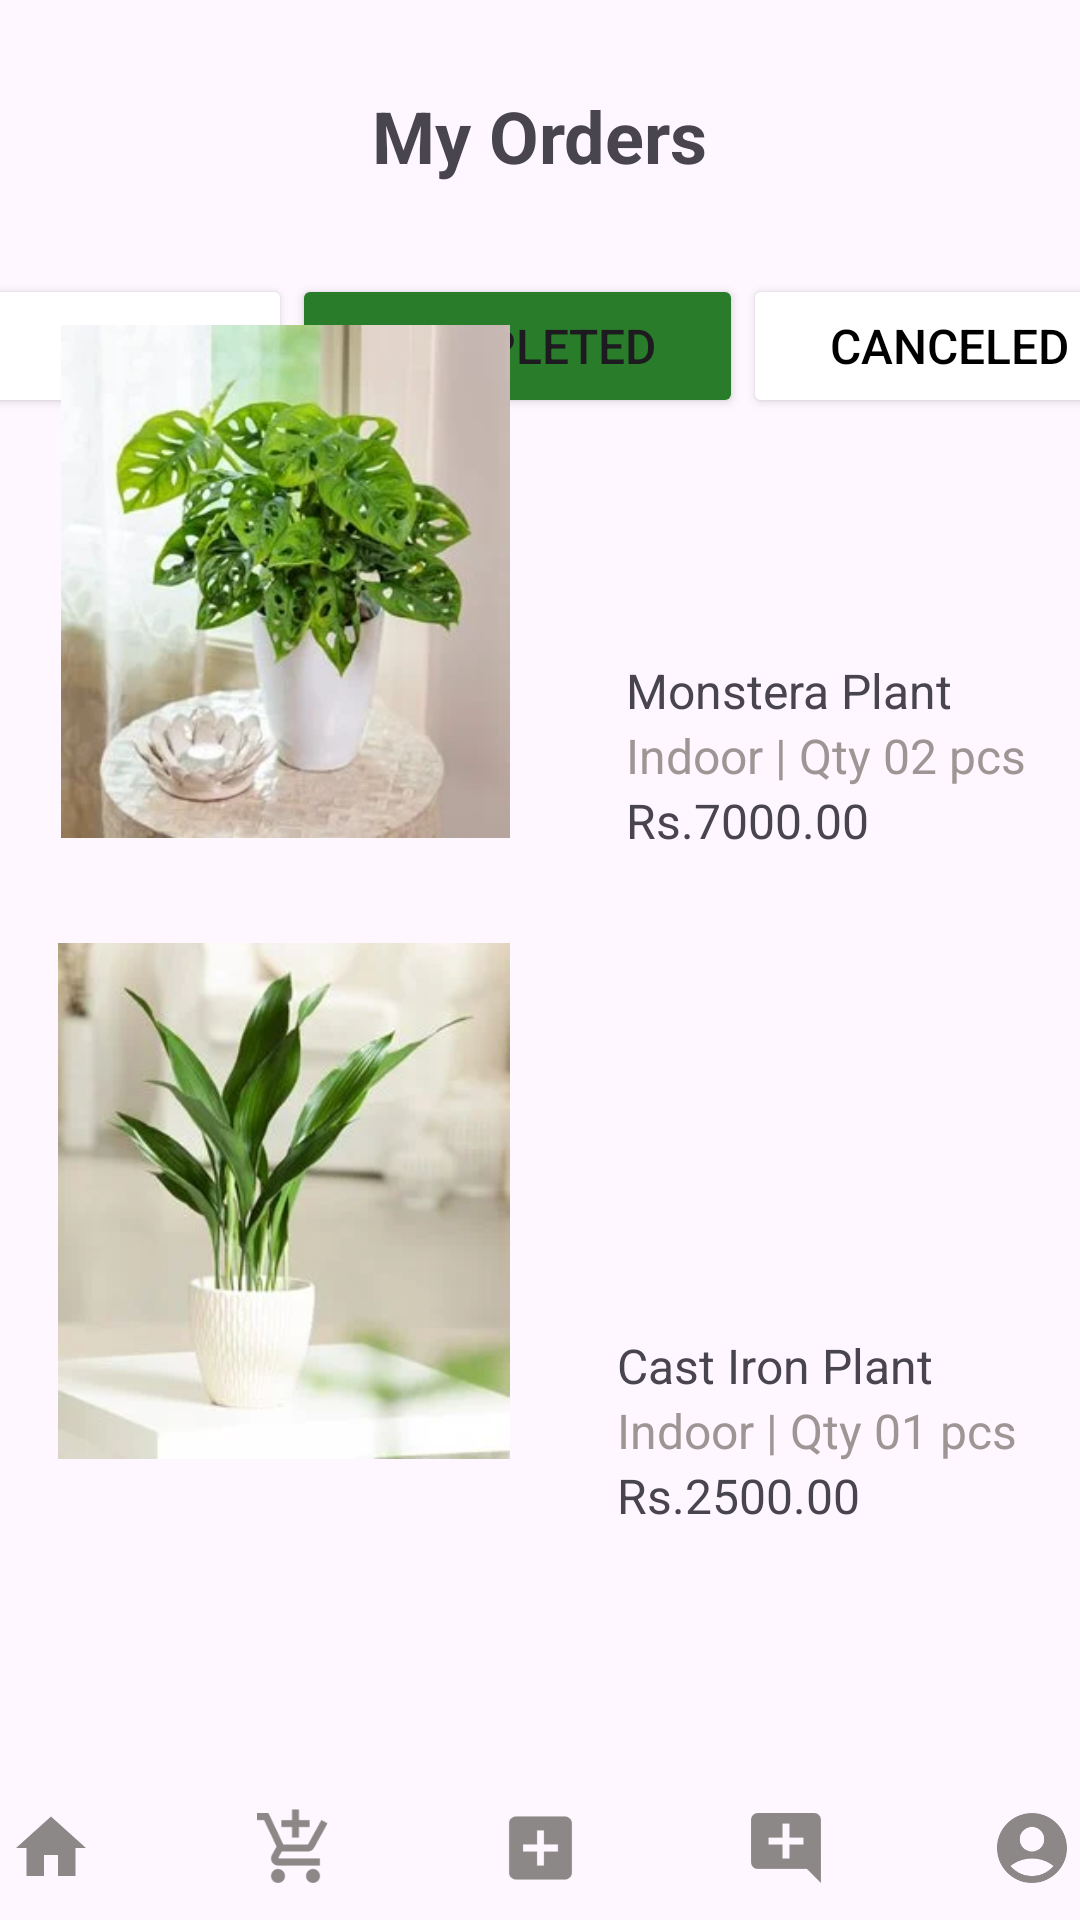

Named icons in this screenshot (1080w x 1920h) and their centers, (x=x, y=y):
add box: (x=540, y=1848)
add comment: (x=786, y=1848)
add shopping cart: (x=292, y=1846)
